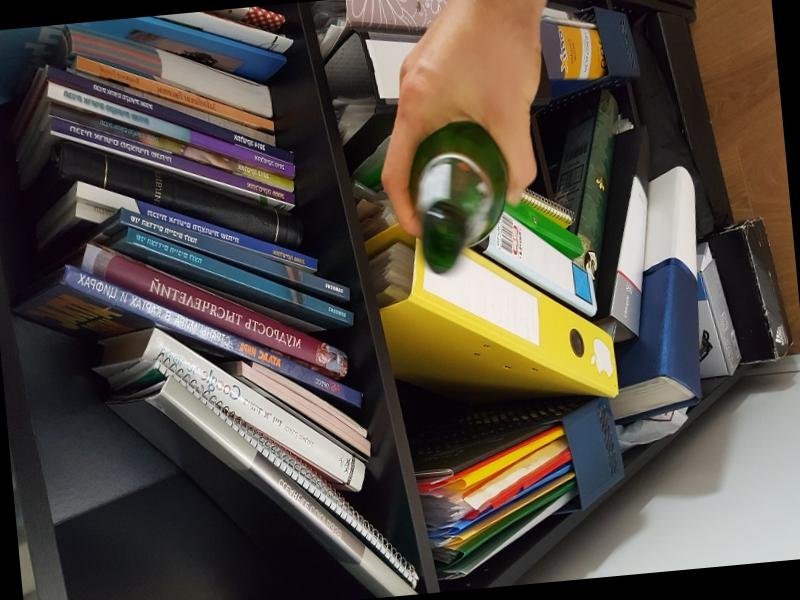Beer: (405, 117, 516, 275)
